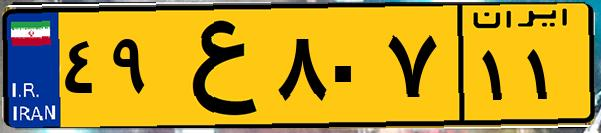0: (330, 28, 385, 110)
1: (475, 38, 525, 113), (525, 38, 570, 115)
4: (57, 26, 110, 100)
7: (385, 28, 445, 110)
8: (270, 28, 330, 110)
9: (110, 28, 158, 98)
ع: (158, 12, 270, 120)
